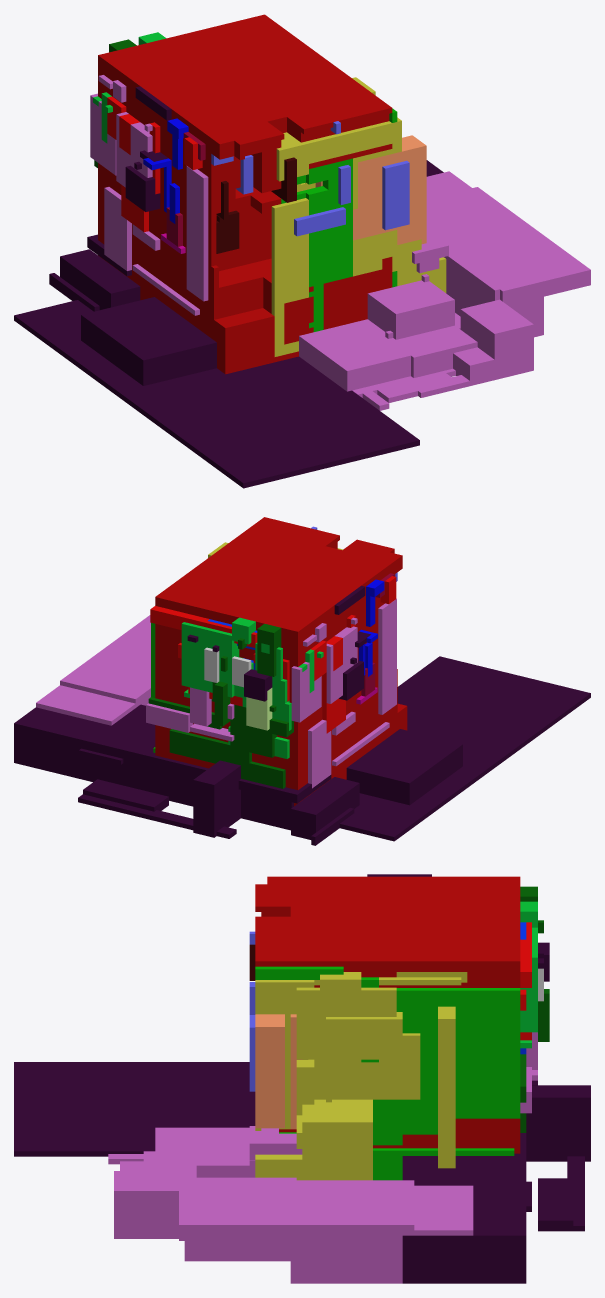
Rendered from kylei.obj.
The picture shows the model from 3 angles, top to bottom: view 1: azimuth 30°, elevation 25°; view 2: azimuth 150°, elevation 25°; view 3: azimuth 270°, elevation 25°; orthographic projection. The views are drawn at different scales.
Size of the model in its own units: 87 by 45 by 98.
1 material, 1 textured.
